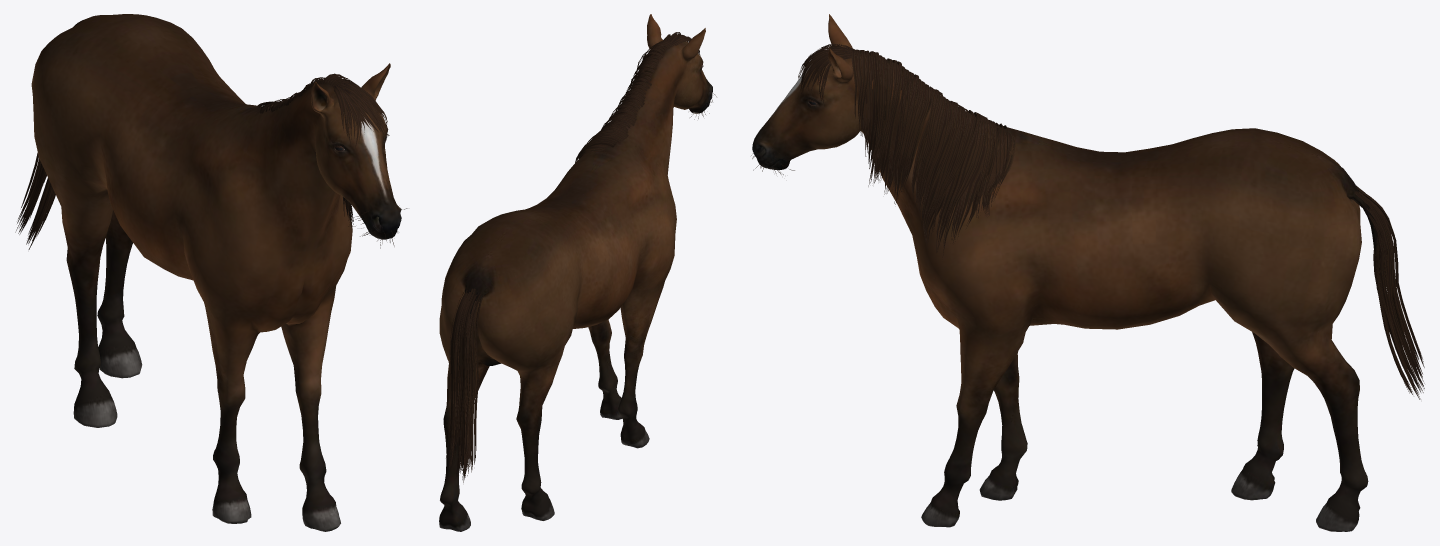
Rendered from Horse.fbx.
3 views of the same model, side by side, from view 1: azimuth 30°, elevation 25°; view 2: azimuth 150°, elevation 25°; view 3: azimuth 270°, elevation 25° (orthographic). The views are drawn at different scales.
Parts seen in each view (by area): view 1: Object_7; view 2: Object_7; view 3: Object_7.
Boxes of the visible parts, box(x1,y1,x2,y2) form: Object_7: box(15, 14, 407, 531); Object_7: box(439, 14, 716, 531); Object_7: box(751, 14, 1424, 531).
Bounding box in the file's own units: 6776 × 21462 × 27631.
1 material, 1 textured.
